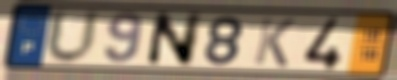4: (301, 15, 346, 72)
8: (203, 15, 245, 67)
9: (101, 10, 145, 68)
K: (251, 16, 298, 69)
N: (144, 11, 205, 68)
U: (43, 7, 103, 67)
